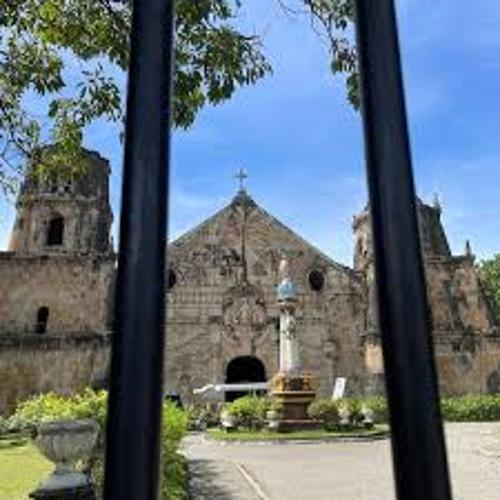Miagao Church: (5, 120, 500, 432)
